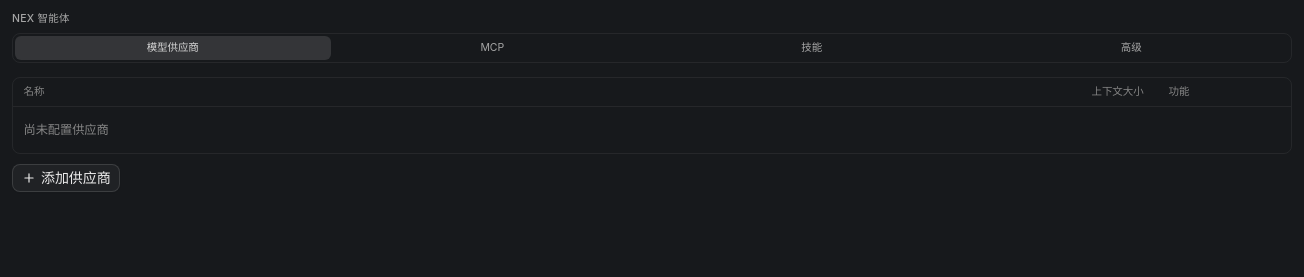
Test: NexAgentSection MCP and skills › shows MCP environment and header names without exposing values
This screenshot has width=1304, height=277.
Click the button "MCP": (492, 48) top-left (334, 36), bottom-right (650, 60)
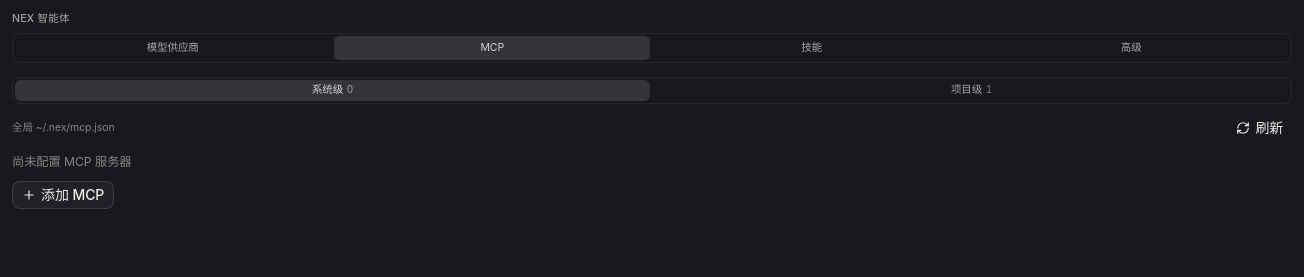
Click the button "项目级1": (972, 90) top-left (654, 80), bottom-right (1289, 101)
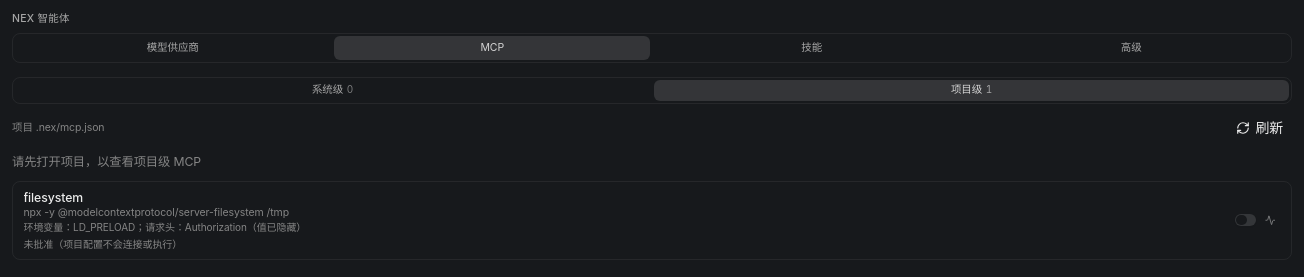
Check: the text "环境变量：LD_PRELOAD；请求头：Authorization（值已隐藏）" is shown, box top-left (24, 220), bottom-right (306, 235)
